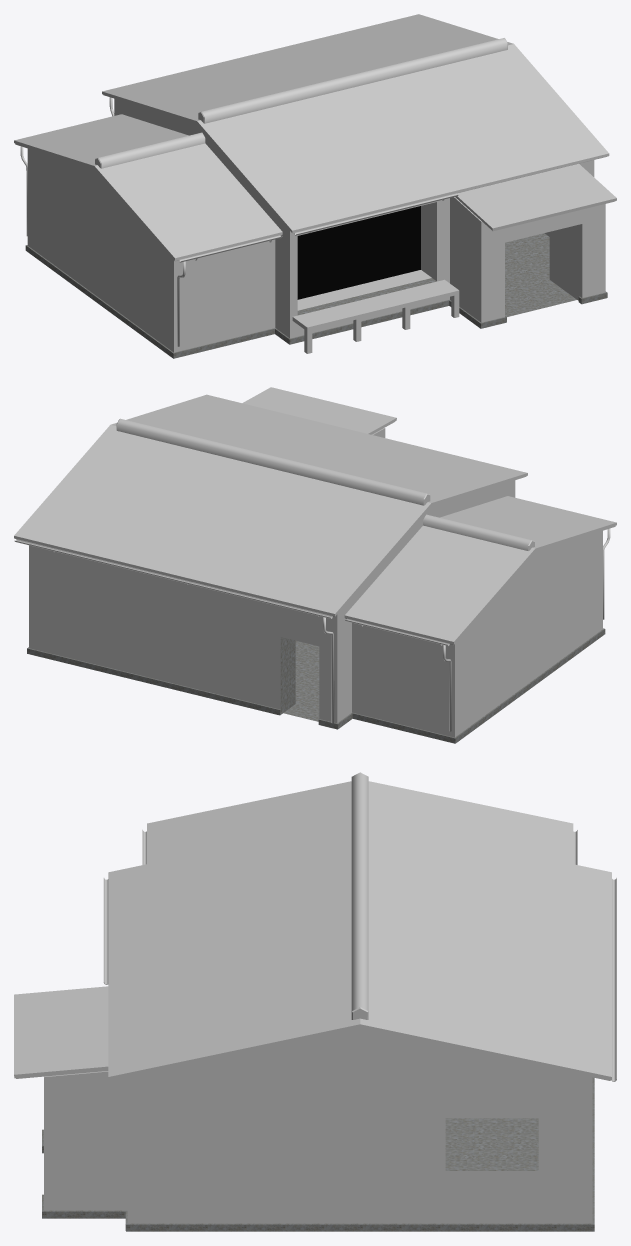
Rendered from JPBM11Base.obj.
3 renders of one model, top to bottom at view 1: azimuth 30°, elevation 25°; view 2: azimuth 150°, elevation 25°; view 3: azimuth 270°, elevation 25°, orthographic. The views are drawn at different scales.
Visible parts, largest first — view 1: JPBM11Base; view 2: JPBM11Base; view 3: JPBM11Base.
Boxes of the visible parts, bbox=[...] form: JPBM11Base: bbox=[14, 14, 616, 358]; JPBM11Base: bbox=[14, 387, 616, 743]; JPBM11Base: bbox=[14, 772, 616, 1231].
Bounding box in the file's own units: 16.55 × 6.34 × 15.56.
